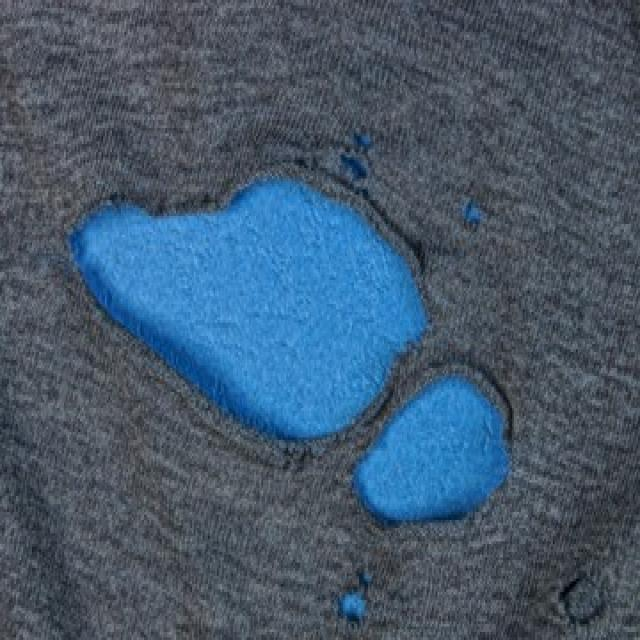Hole: (70, 178, 428, 440), (356, 377, 510, 522), (563, 577, 607, 626), (339, 592, 368, 623), (461, 196, 489, 228), (340, 152, 369, 182), (351, 127, 375, 152)
